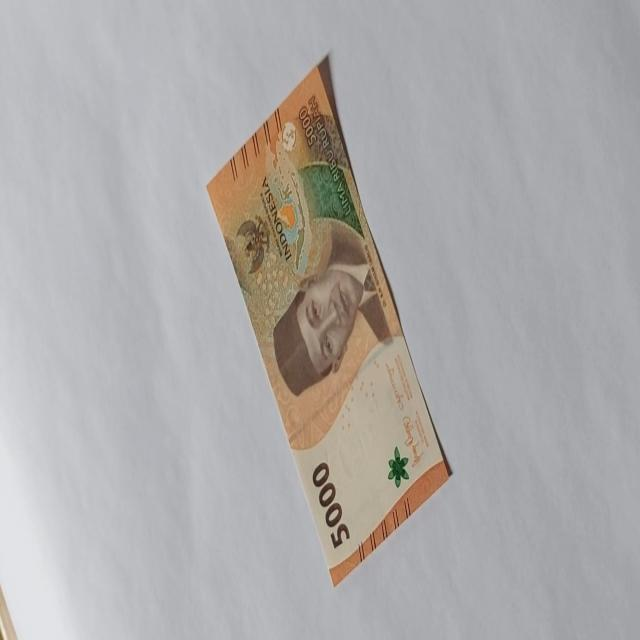lima ribu rupiah: (206, 53, 452, 586)
